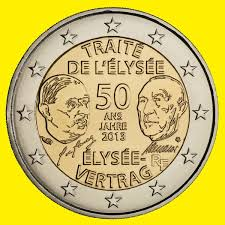eur002: (6, 7, 219, 220)
